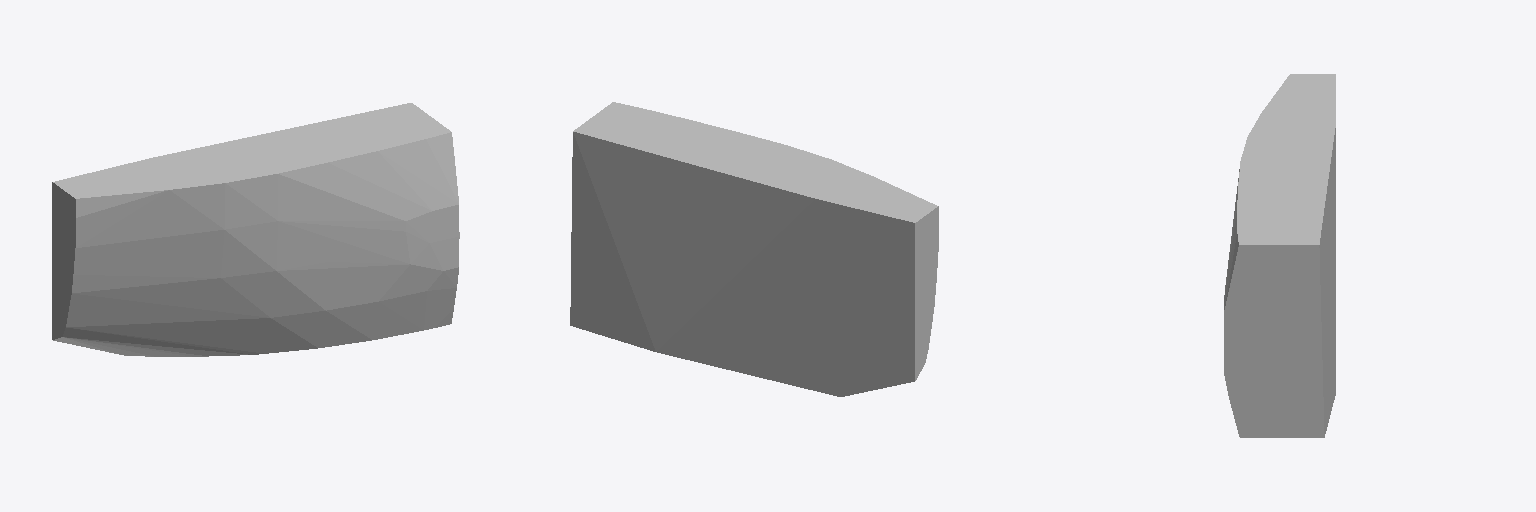
File: phantom-elastrat_collision_295.obj
3 views of the same model, side by side, from view 1: azimuth 30°, elevation 25°; view 2: azimuth 150°, elevation 25°; view 3: azimuth 270°, elevation 25° (orthographic).
Size of the model in its own units: 0.0083 by 0.0043 by 0.0023.